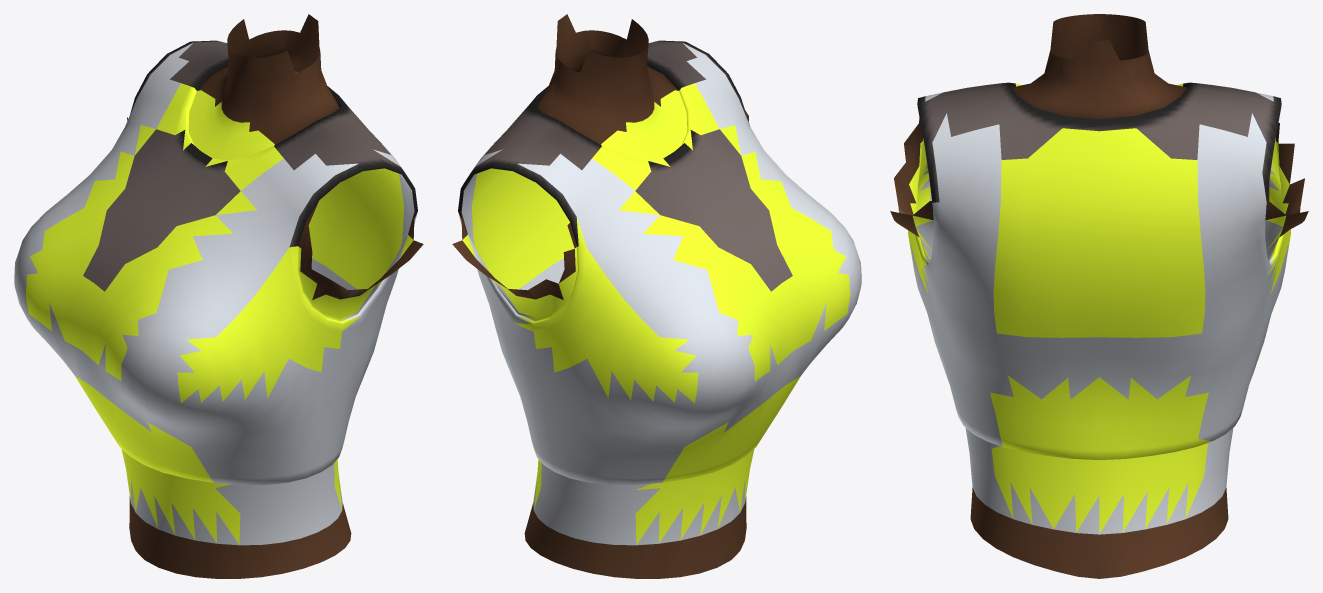
File: op_torso.glb
3 renders of one model, left to right at view 1: azimuth 30°, elevation 25°; view 2: azimuth 150°, elevation 25°; view 3: azimuth 270°, elevation 25°, orthographic. The views are drawn at different scales.
Visible parts, largest first — view 1: Ch03; view 2: Ch03; view 3: Ch03.
Part boxes in pixels (bbox=[...]): Ch03: bbox=[14, 14, 423, 578]; Ch03: bbox=[452, 14, 861, 578]; Ch03: bbox=[890, 14, 1308, 578].
Bounding box in the file's own units: 0.203 × 0.3358 × 0.241.
Materials: 3 (1 with a texture image).
